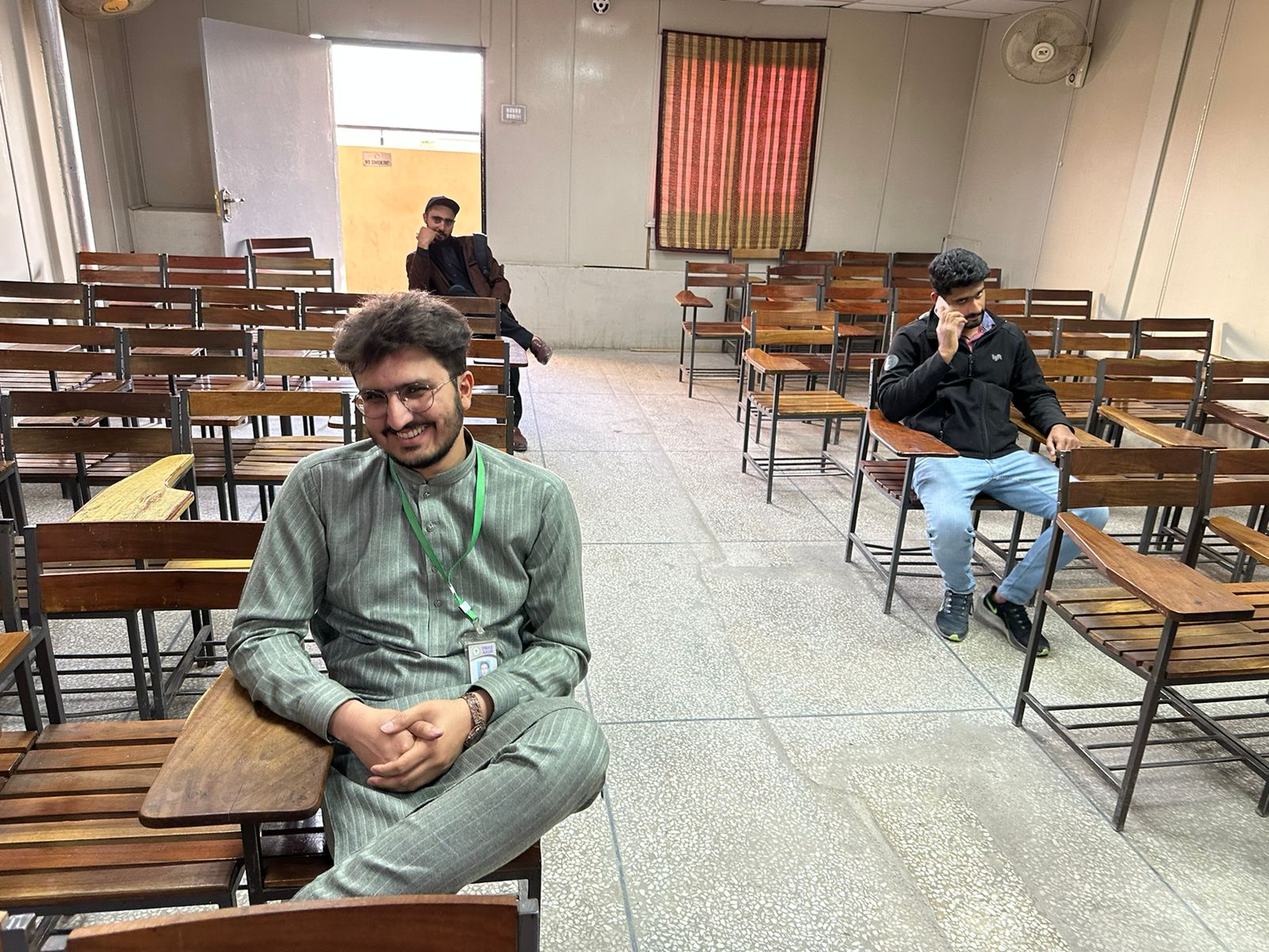non-cheating: (422, 195, 461, 243)
phone: (929, 291, 968, 333)
